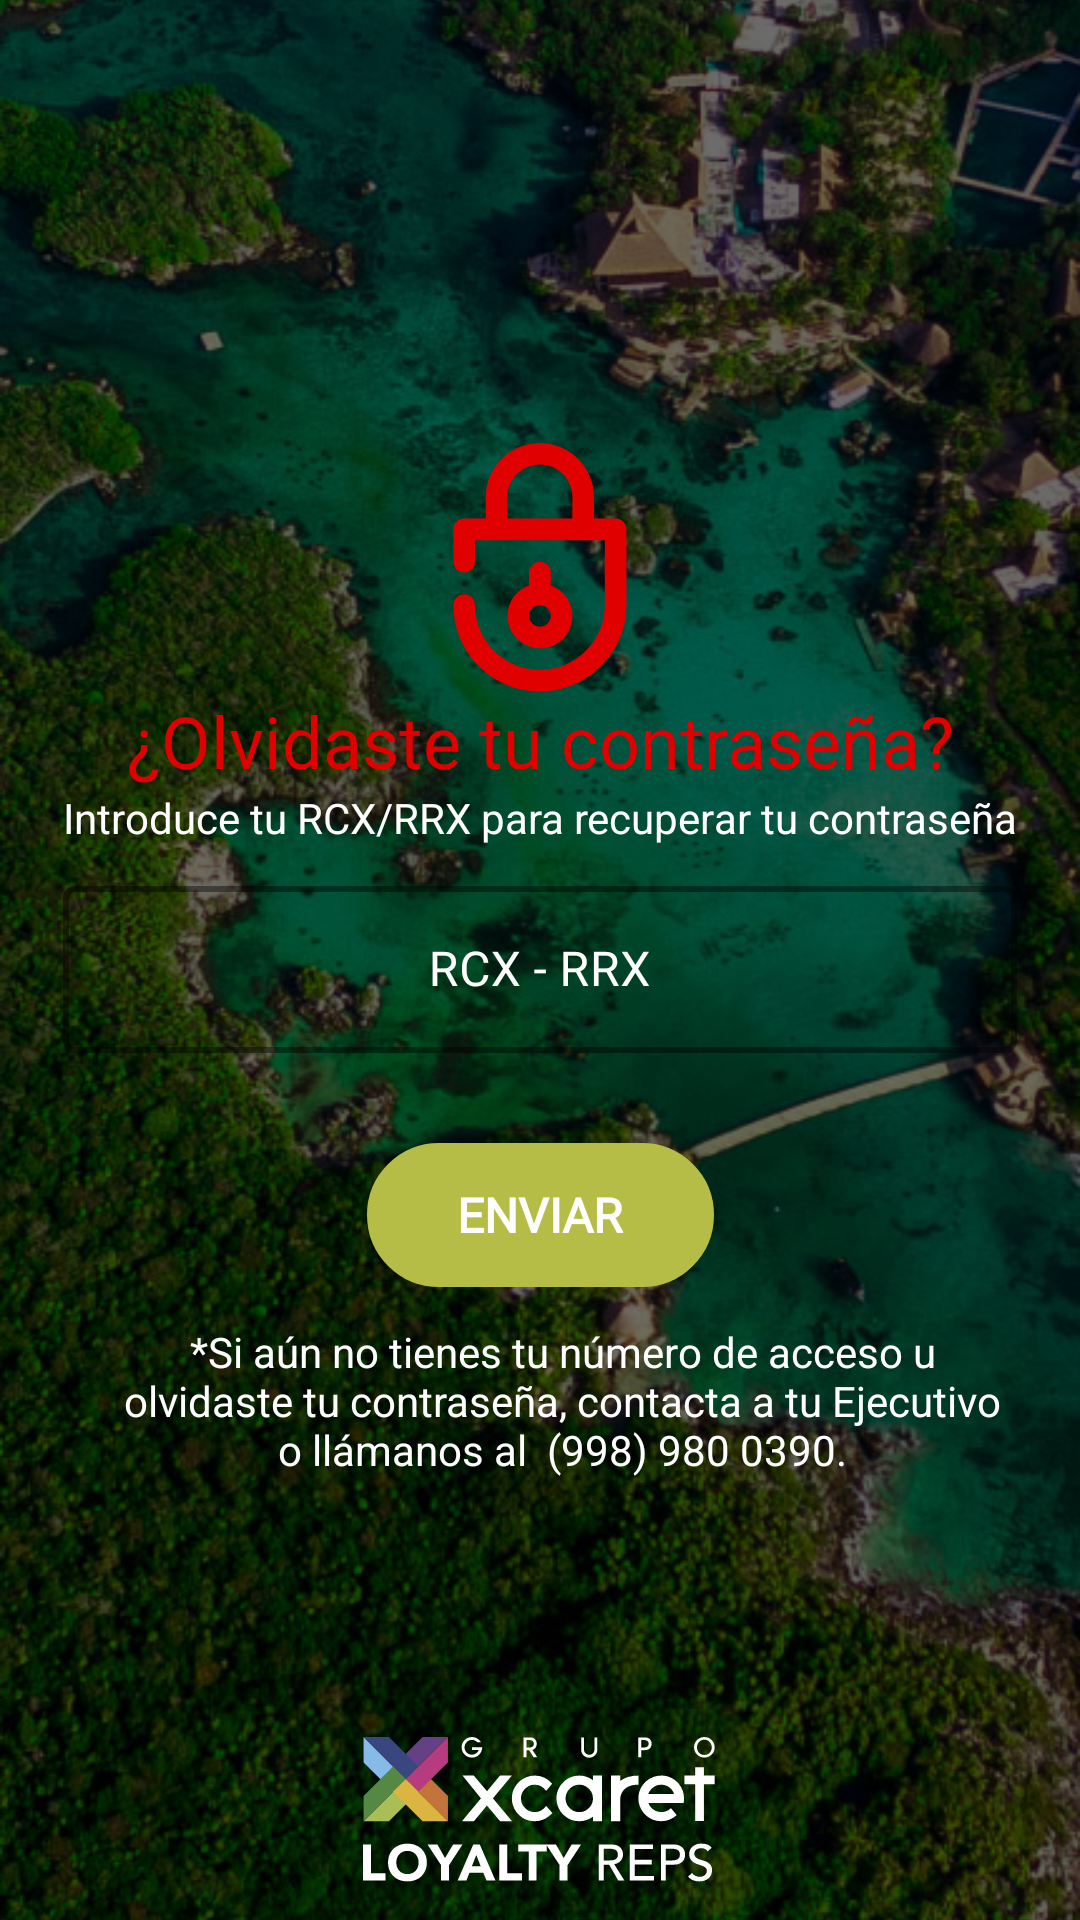

Icons on this 1080px x 1920px Android screen, each with its box as (x1, y1, x2, y2):
lock: (452, 443, 629, 692)
